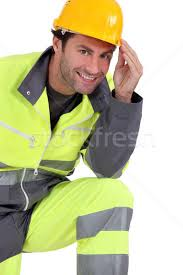Person_wearing_helmet: (40, 0, 124, 66)
